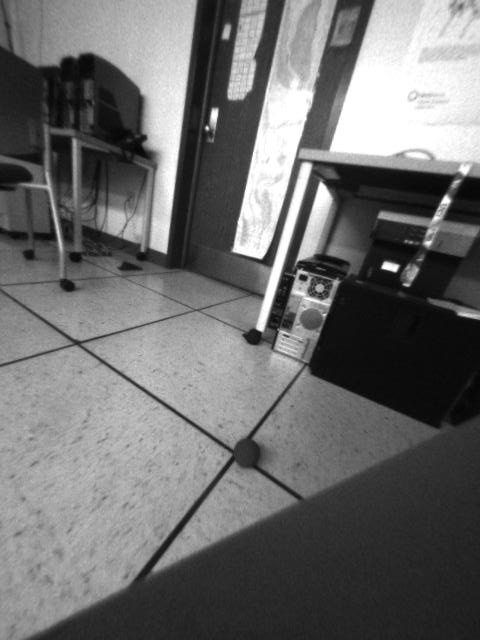dogtoy: (229, 429, 269, 474)
